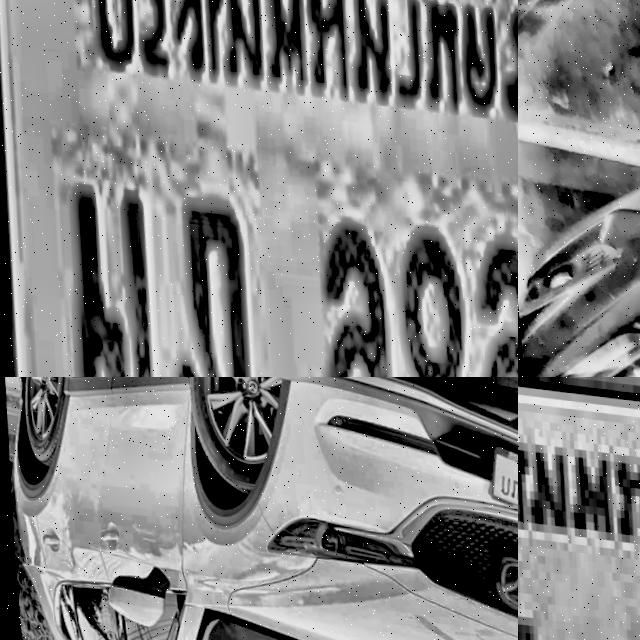license-plate: (0, 0, 518, 377), (518, 377, 640, 640), (478, 428, 518, 520)
